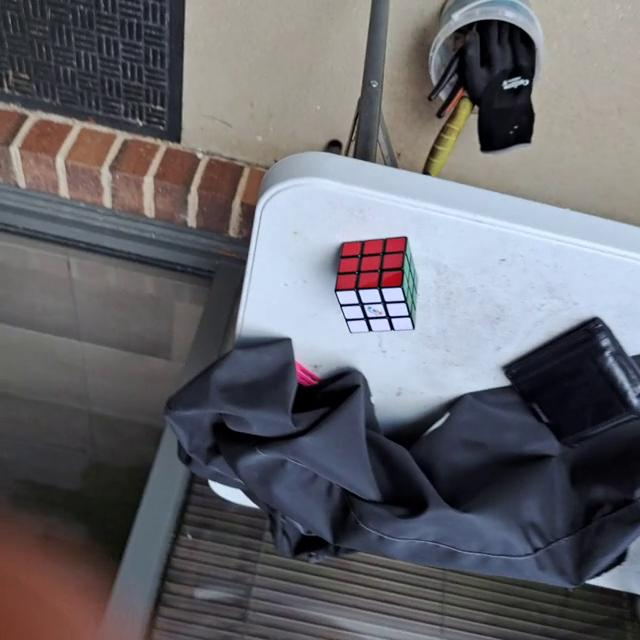rubix_cube: (333, 233, 423, 338)
